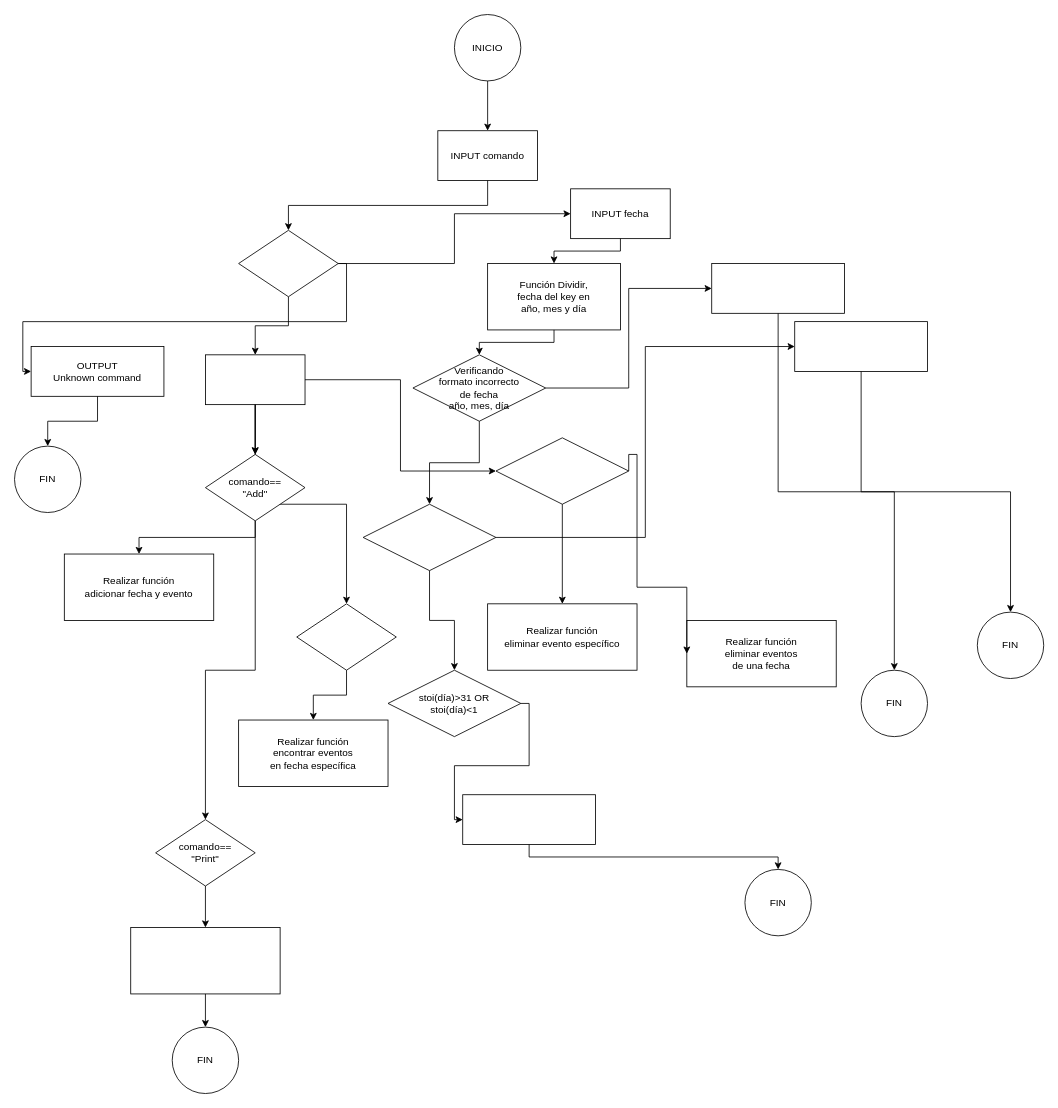
This 1058x1108 diagram has some shape labels left out. Here are the shapes that lost their labels. From the top down, the centre of each, then its label:
point (288, 263): comando== "Add" OR "Del" OR "Find" OR "Print"
point (778, 288): OUTPUT Wrong Date Format: Date
point (861, 346): OUTPUT Month value is invalid: month
point (255, 379): INPUT evento
point (562, 470): comando== "Del" and evento.empty
point (429, 537): stoi(mes)>12 OR stoi(mes)<1
point (346, 636): comando== "Find"
point (529, 819): OUTPUT Day value is invalid: day
point (205, 960): Realizar función imprimir todas las fechas y eventos
